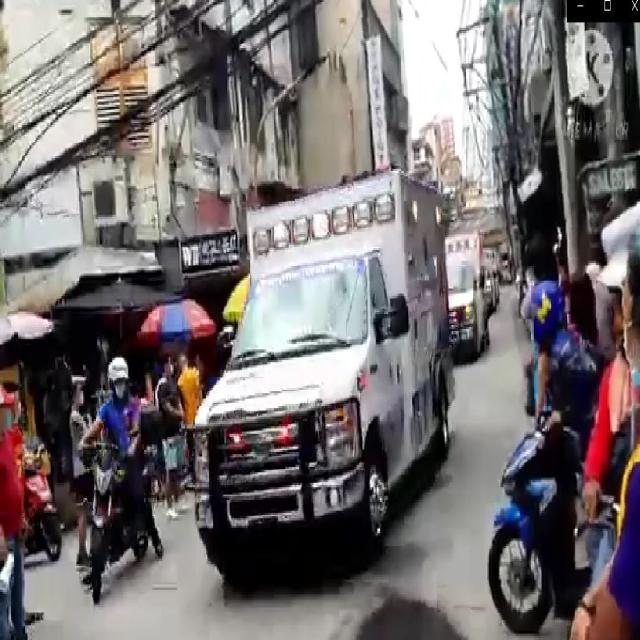emergency: (190, 164, 458, 610), (423, 226, 491, 375), (468, 241, 507, 328)
